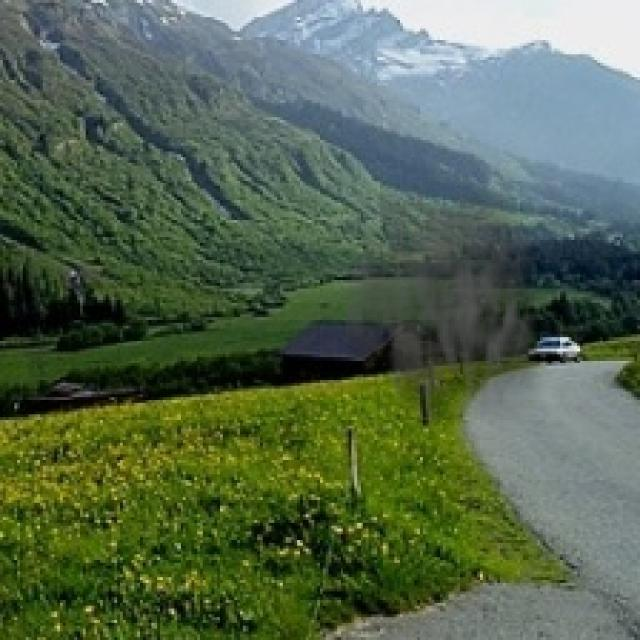Smoke: (346, 157, 552, 420)
